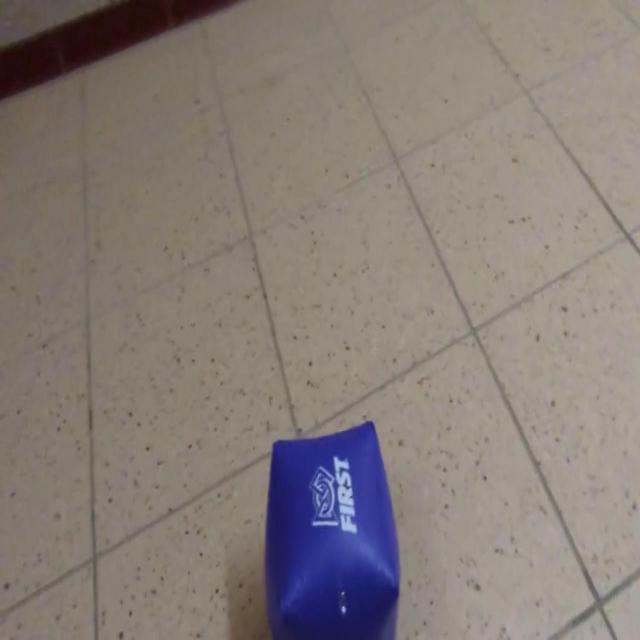frc_cube: (258, 415, 404, 640)
